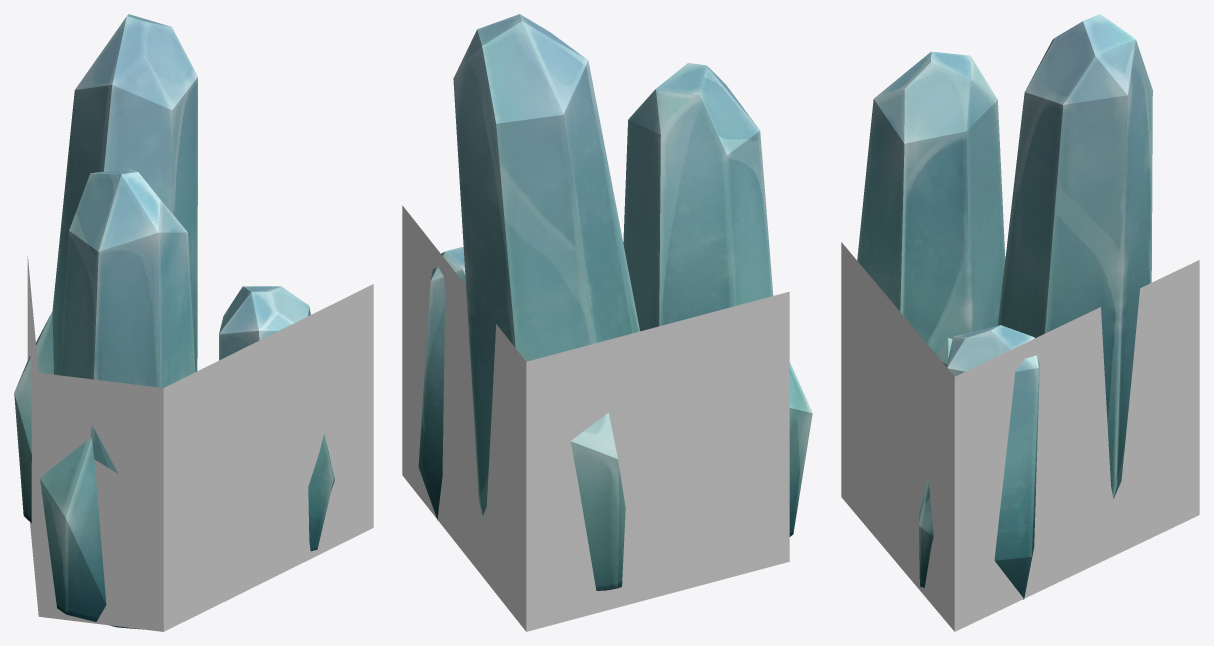
The model's file is landmark crystal.glb.
The picture shows the model from 3 angles, left to right: view 1: azimuth 30°, elevation 25°; view 2: azimuth 150°, elevation 25°; view 3: azimuth 270°, elevation 25°; orthographic projection. The views are drawn at different scales.
Visible parts, largest first — view 1: phy-body-main-trimesh-0kg-landmark-crystal, landmark-crystal; view 2: landmark-crystal, phy-body-main-trimesh-0kg-landmark-crystal; view 3: landmark-crystal, phy-body-main-trimesh-0kg-landmark-crystal.
Boxes of the visible parts, left/top/right/bottom form: phy-body-main-trimesh-0kg-landmark-crystal: left=27, top=256, right=373, bottom=631; landmark-crystal: left=14, top=14, right=334, bottom=629; landmark-crystal: left=418, top=14, right=812, bottom=590; phy-body-main-trimesh-0kg-landmark-crystal: left=402, top=205, right=789, bottom=631; landmark-crystal: left=857, top=14, right=1152, bottom=599; phy-body-main-trimesh-0kg-landmark-crystal: left=841, top=242, right=1199, bottom=631.
Bounding box in the file's own units: 16.12 × 22.96 × 13.96.
1 material, 1 textured.
